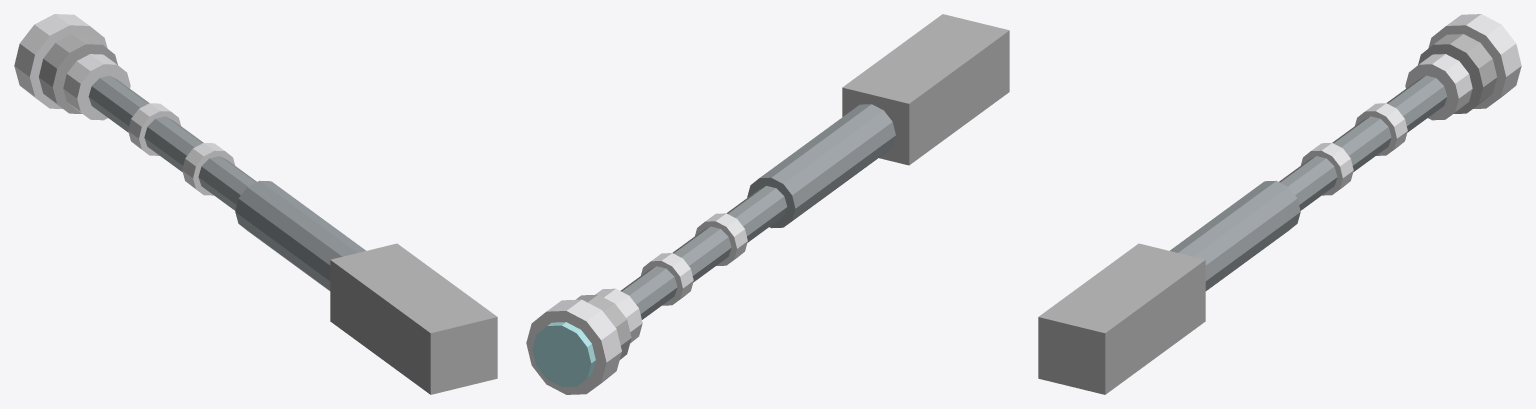
Rendered from gun_Hunter_Layer2.glb.
The picture shows the model from 3 angles, left to right: view 1: azimuth 30°, elevation 25°; view 2: azimuth 150°, elevation 25°; view 3: azimuth 330°, elevation 25°; orthographic projection.
Visible parts, largest first — view 1: gun_Hunter_Layer2; view 2: gun_Hunter_Layer2; view 3: gun_Hunter_Layer2.
Part boxes in pixels (<box>): gun_Hunter_Layer2: <box>14,14,497,394</box>; gun_Hunter_Layer2: <box>526,14,1009,394</box>; gun_Hunter_Layer2: <box>1038,14,1521,394</box>.
Size of the model in its own units: 0.6 by 0.6 by 5.36.
